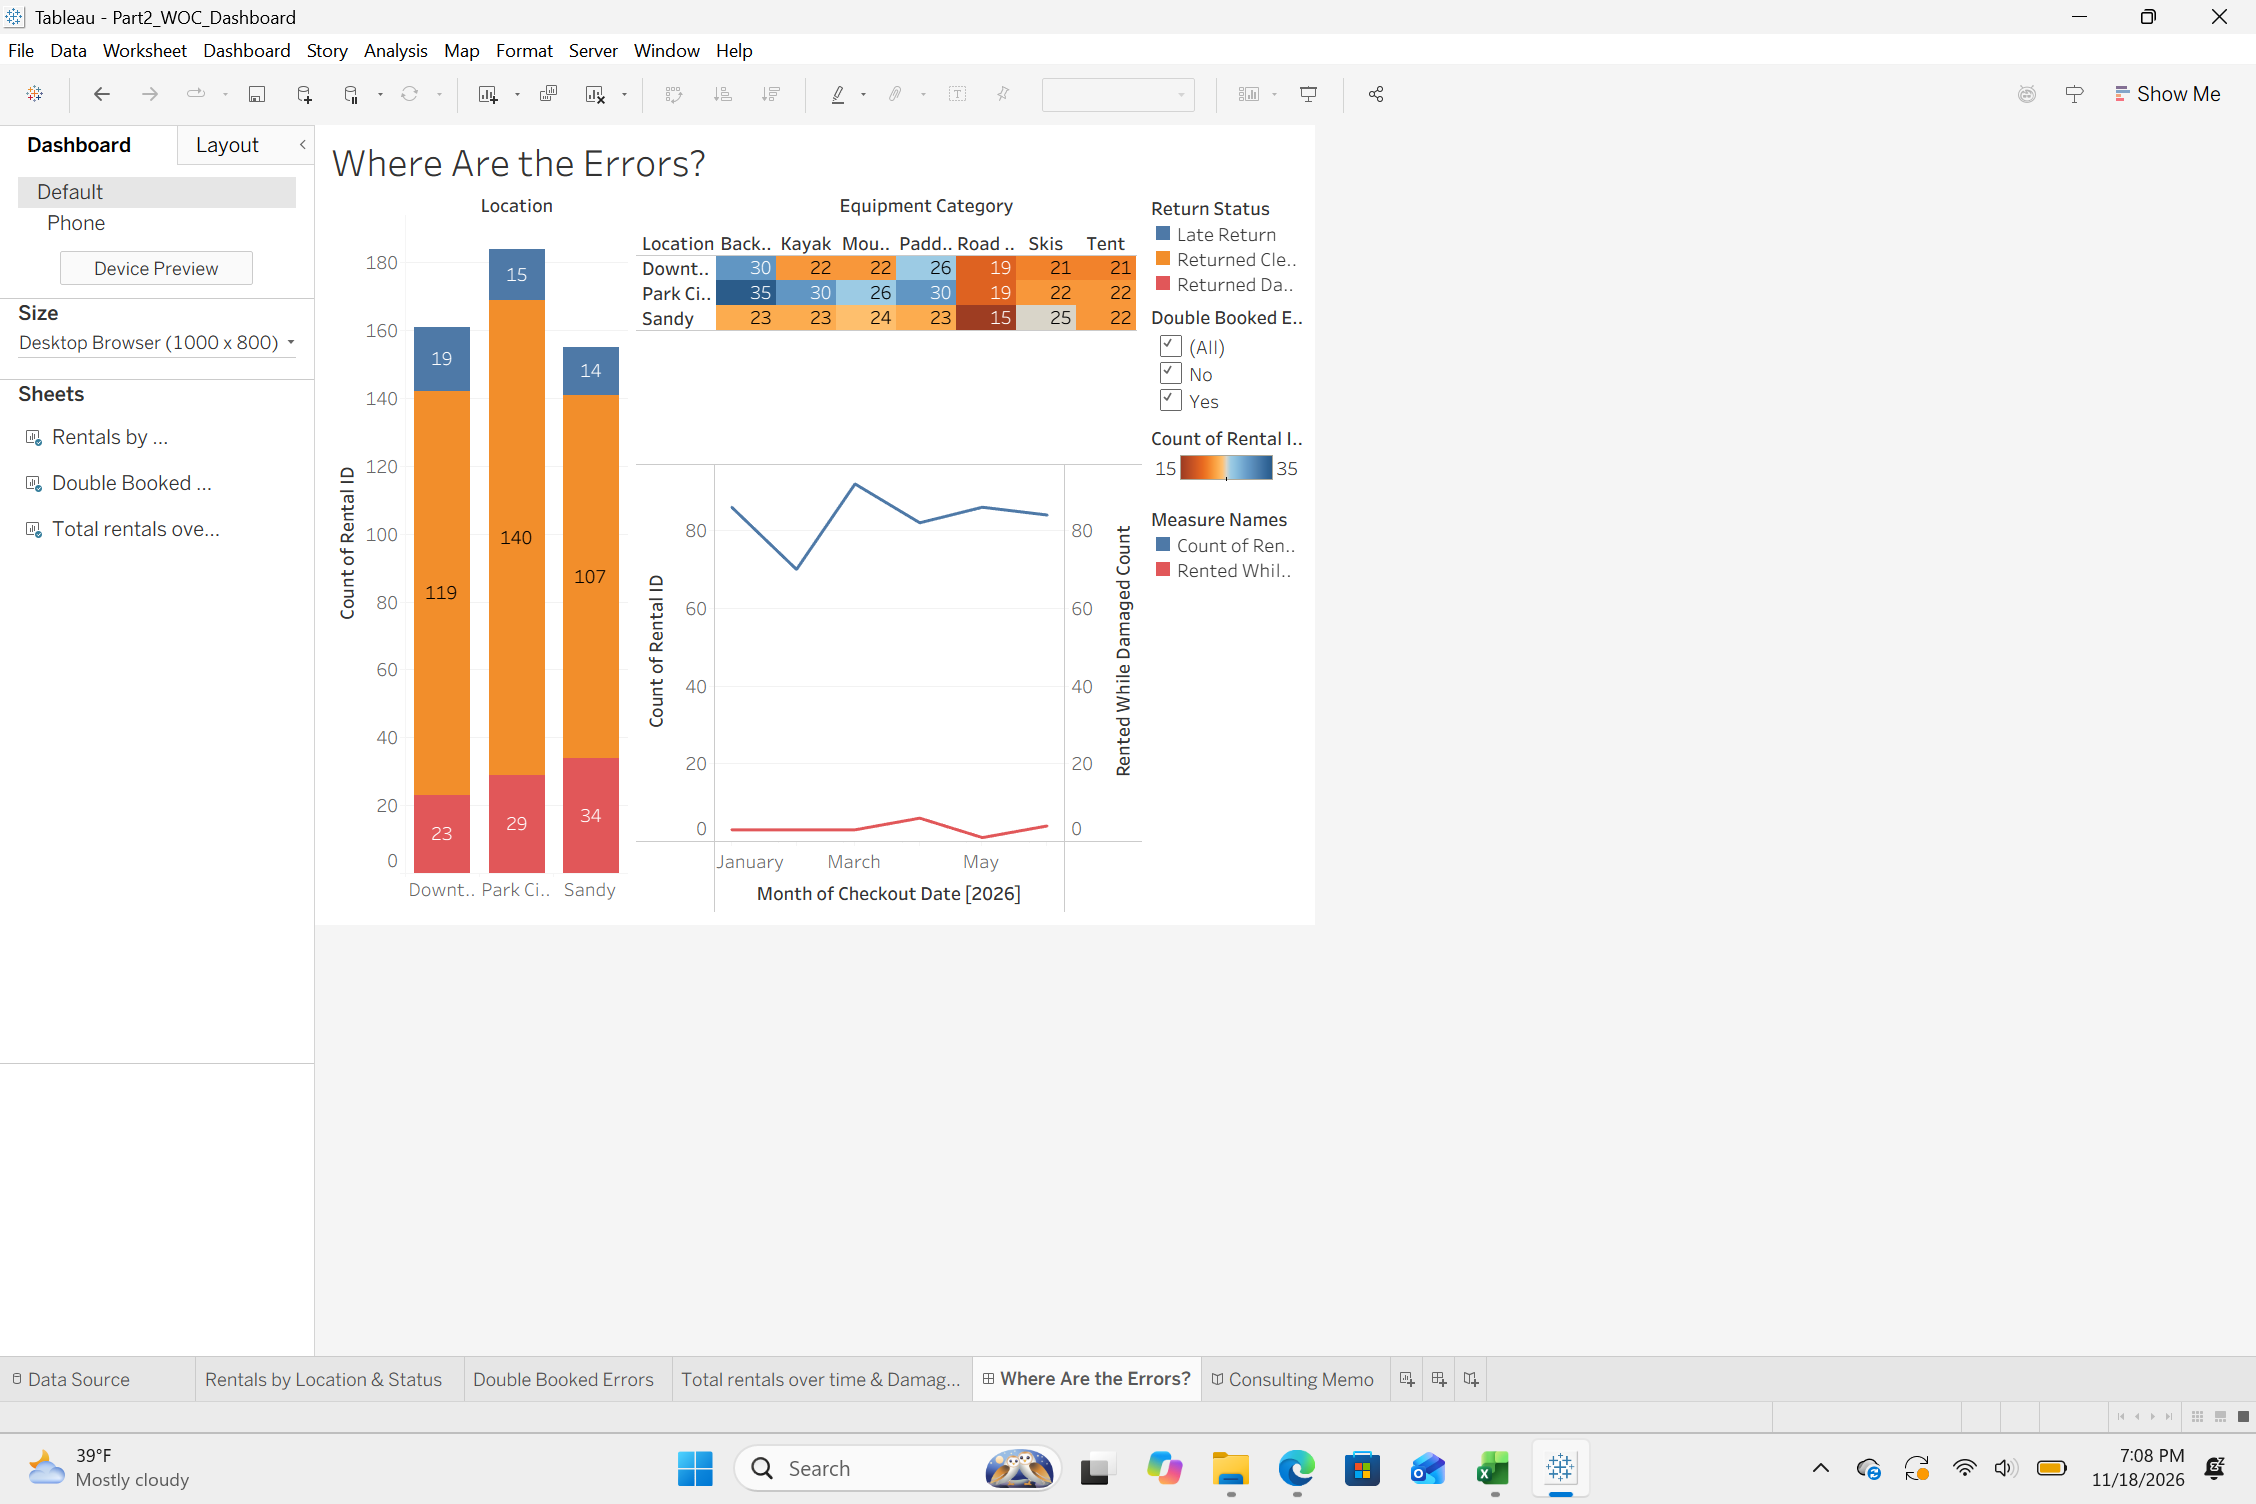

The page's visual inventory and layout, read from the dashboard file:
{"tool":"tableau","page":{"name":"Where Are the Errors?","canvas":[1000,800],"ordinal":0},"visuals":[{"type":"title","box":[8,8,984,58]},{"type":"worksheet","title":"Rentals by Location & Status","mark":"Automatic","rows":["Rental_ID"],"cols":["Location"],"box":[8,66,309,726]},{"type":"worksheet","title":"Double Booked Errors","mark":"Square","rows":["Location"],"cols":["Equipment_Category"],"box":[317,66,515,269.4]},{"type":"legend","title":"Rentals by Location & Status","param":"[federated.18tji6q0cf4gwd196lplq1iides1].[none:Return_Status:nk]","box":[832,66,160,109]},{"type":"filter","title":"Double Booked Errors","param":"[federated.18tji6q0cf4gwd196lplq1iides1].[none:Double_Booked_Error:nk]","box":[832,175,160,121]},{"type":"legend","title":"Double Booked Errors","param":"[federated.18tji6q0cf4gwd196lplq1iides1].[cnt:Rental_ID:qk]","box":[832,296,160,81]},{"type":"worksheet","title":"Total rentals over time & Damage Errors","mark":"Automatic","rows":["Rental_ID","Calculation_1472839940956163"],"cols":["Checkout_Date"],"box":[317,335.4,515,456.6]},{"type":"legend","title":"Total rentals over time & Damage Errors","param":"[federated.18tji6q0cf4gwd196lplq1iides1].[:Measure Names]","box":[832,377,160,84]}]}

Visuals, with their boxes on the page's 1000x800 design canvas (x1, y1, x2, y2). These are canvas units, not pixel positions in the 2256x1504 screenshot, which may show the page scaled, cropped or inside an application window:
title: detection(8, 8, 992, 66)
"Rentals by Location & Status" worksheet: detection(8, 66, 317, 792)
"Double Booked Errors" worksheet (Square marks): detection(317, 66, 832, 335)
"Rentals by Location & Status" legend: detection(832, 66, 992, 175)
"Double Booked Errors" filter: detection(832, 175, 992, 296)
"Double Booked Errors" legend: detection(832, 296, 992, 377)
"Total rentals over time & Damage Errors" worksheet: detection(317, 335, 832, 792)
"Total rentals over time & Damage Errors" legend: detection(832, 377, 992, 461)
